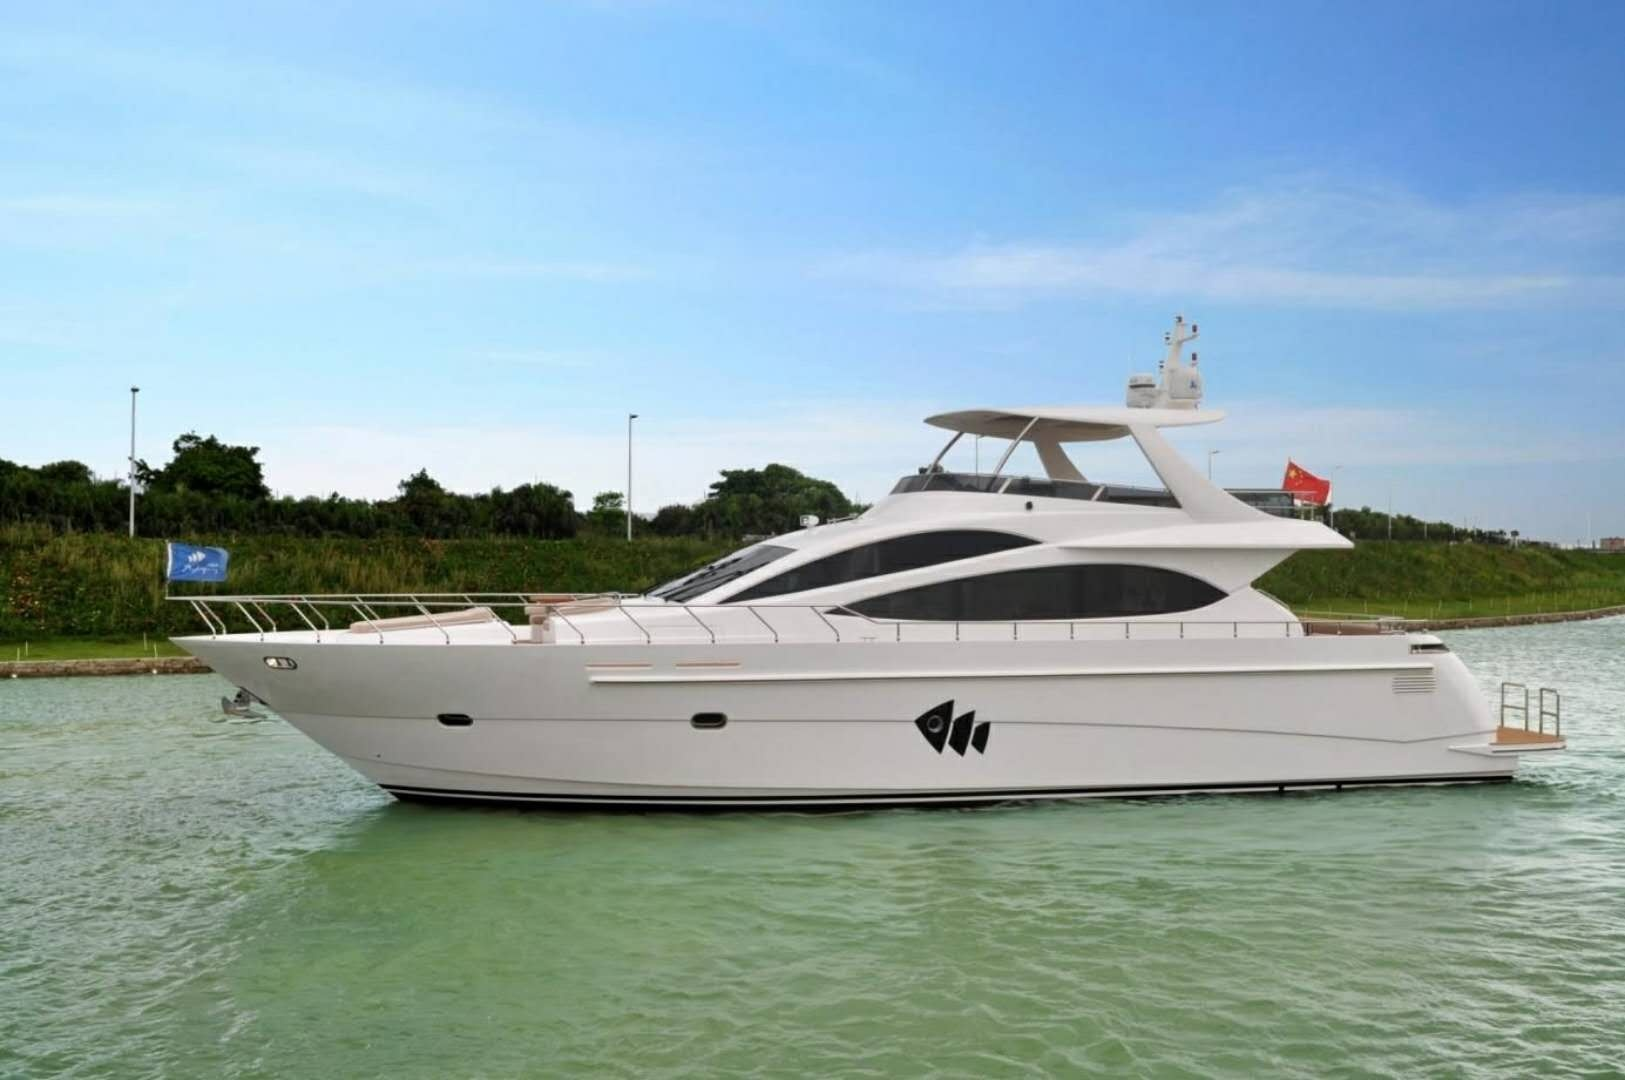yacht: (146, 311, 1494, 816)
